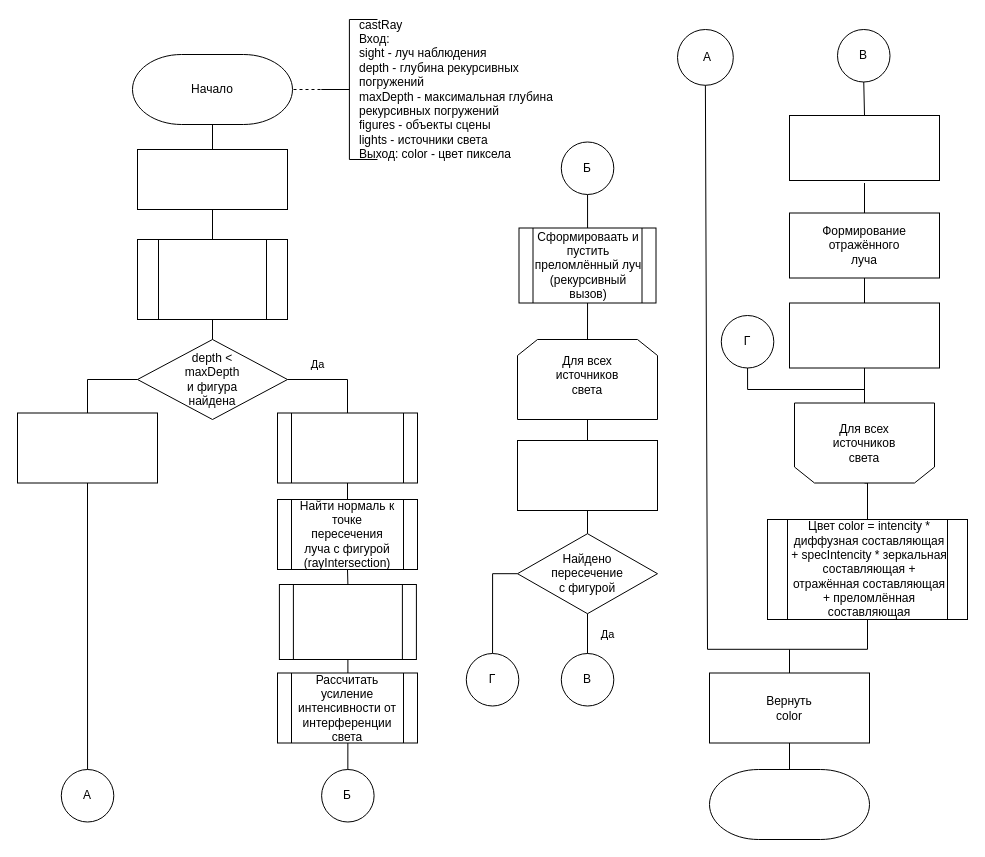
Image size: 985x857. Some labels were removed from this diagram. Here are the shapes that lost their labels. From the top down, the box of each, then its label:
(788, 114, 940, 180): itencity += <интенсивность света конкретного источника в этой точке>
(136, 148, 288, 210): intencity = 0 specIntencity = 0
(136, 238, 288, 320): Поиск ближайшей фигуры на траектории луча наблюдения (sceneIntersect)
(788, 302, 940, 368): specItencity += <интенсивность блика от конкретного источника в этой точке>
(16, 412, 158, 483): Цвет color устанавливается как фоновый
(276, 412, 418, 483): Поиск точки пересечения луча и фигуры (одной из граней фигуры) (rayIntersection)
(516, 440, 658, 510): Формирование луча от анализируемой точки до источника света
(278, 584, 416, 660): Сформировать и пустить отражённый луч (рекурсивный вызов)
(708, 768, 870, 840): Конец
